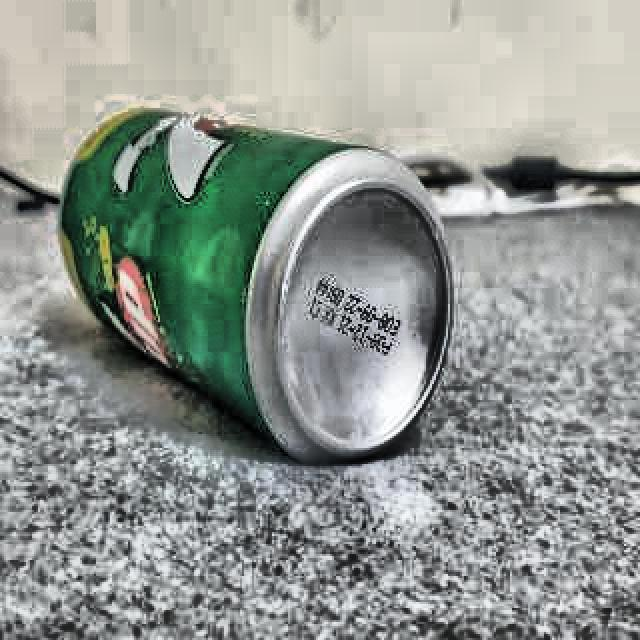metal: (61, 110, 456, 466)
